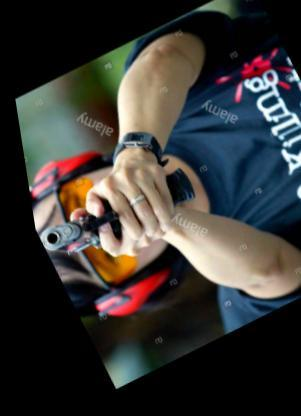pistol: (20, 147, 207, 287)
